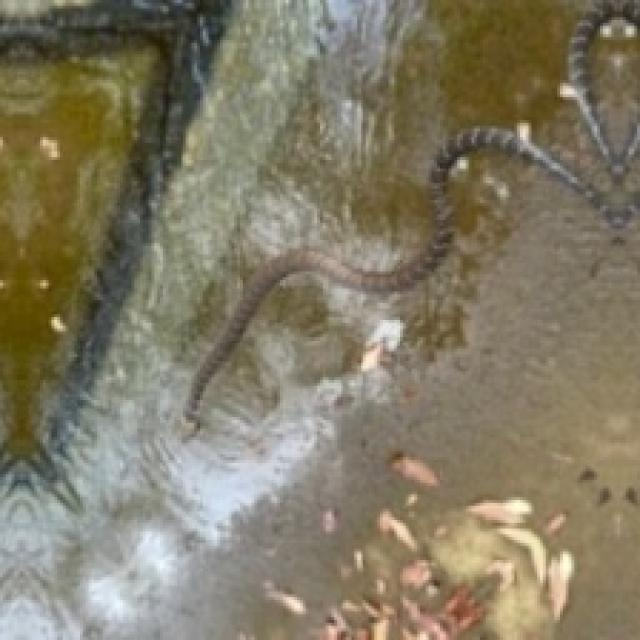king cobra: (183, 123, 634, 429)
